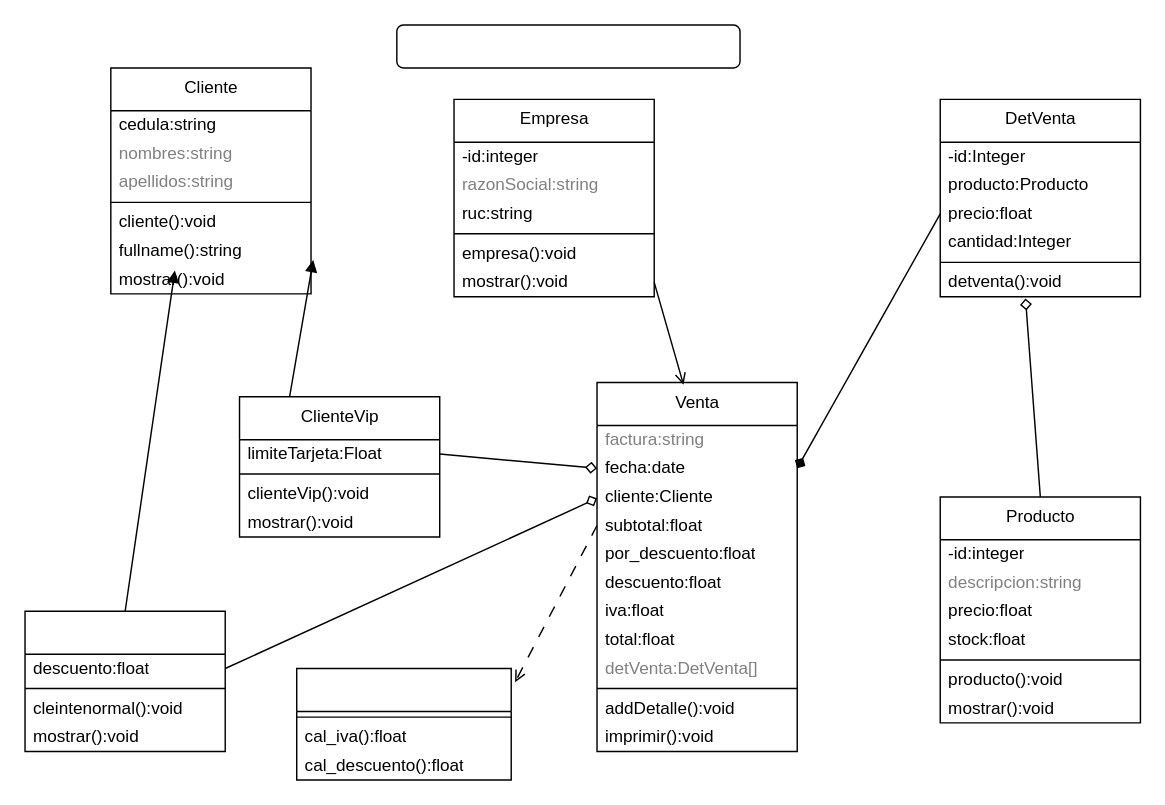
The diagram is 1165 pixels wide and 805 high, and some of its shapes have lost their labels. The shapes that lost their labels are listed below. From the top down, each one's box as (x1, y1, x2, y2) in pixels, then its label:
(395, 24, 740, 68): Diagrama del modulo de facturacion
(24, 610, 225, 751): ClienteNormal
(295, 667, 511, 780): Icalculos
